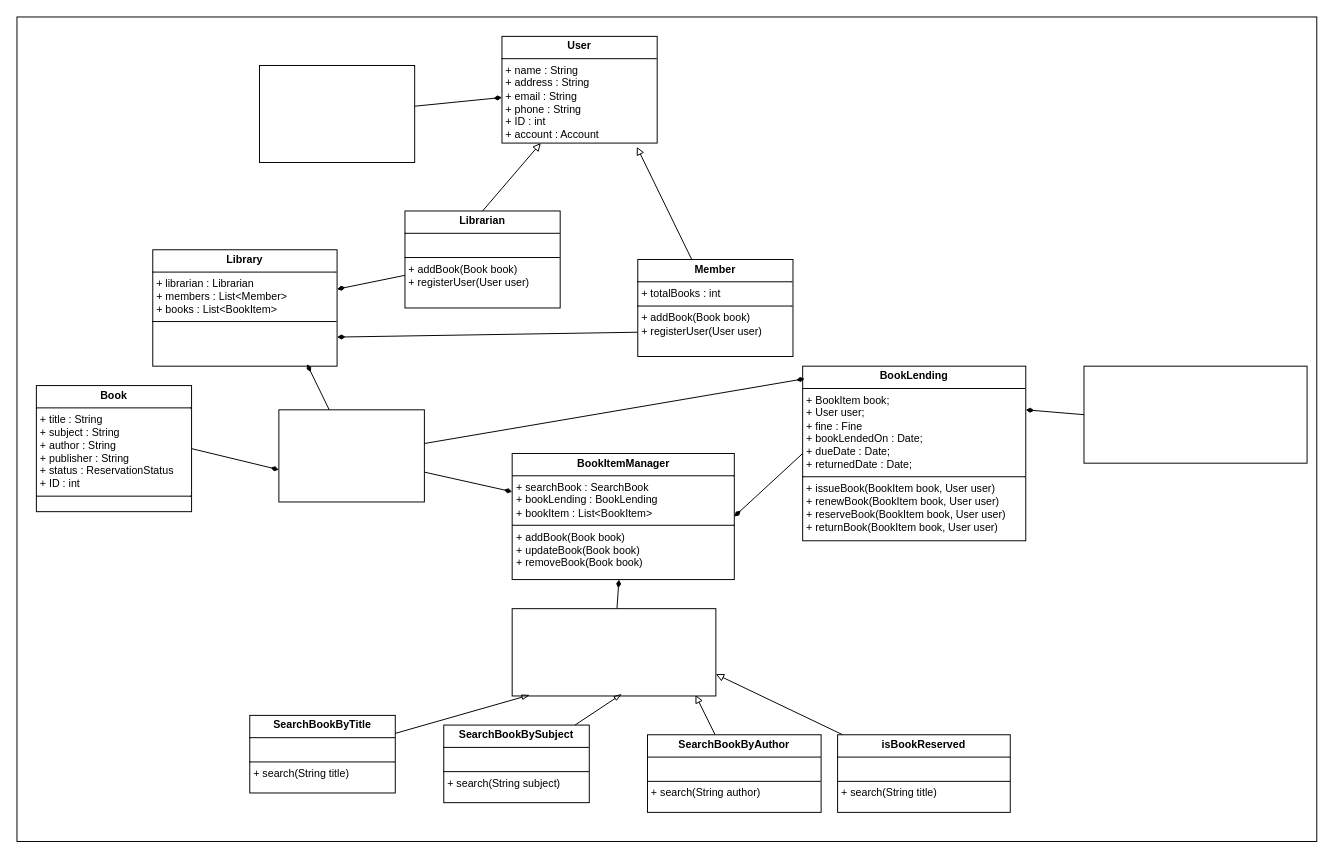
The diagram is 1334 pixels wide and 858 high, and some of its shapes have lost their labels. Each missing label, with the centre of its shape:
"<<interface>> SearchBook +" belongs at (x=613, y=652).
"Account + id : int + password : String + status : AccountStatus" belongs at (x=337, y=113).
"BookItem + ID : int + rackNumber : int + book : Book + status : BookingStatus" belongs at (x=351, y=455).
"Fine + fineAmount : int + isFineEligibile( + calculateFine(Date dueDate)" belongs at (x=1195, y=414).
